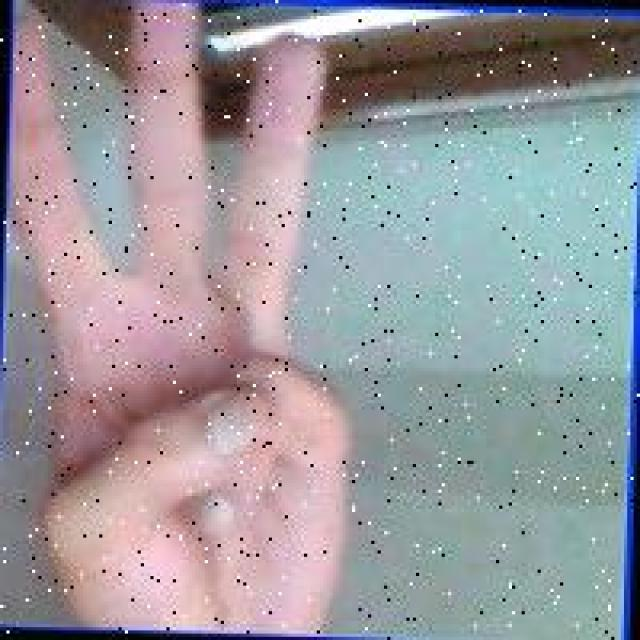W: (0, 0, 371, 630)
